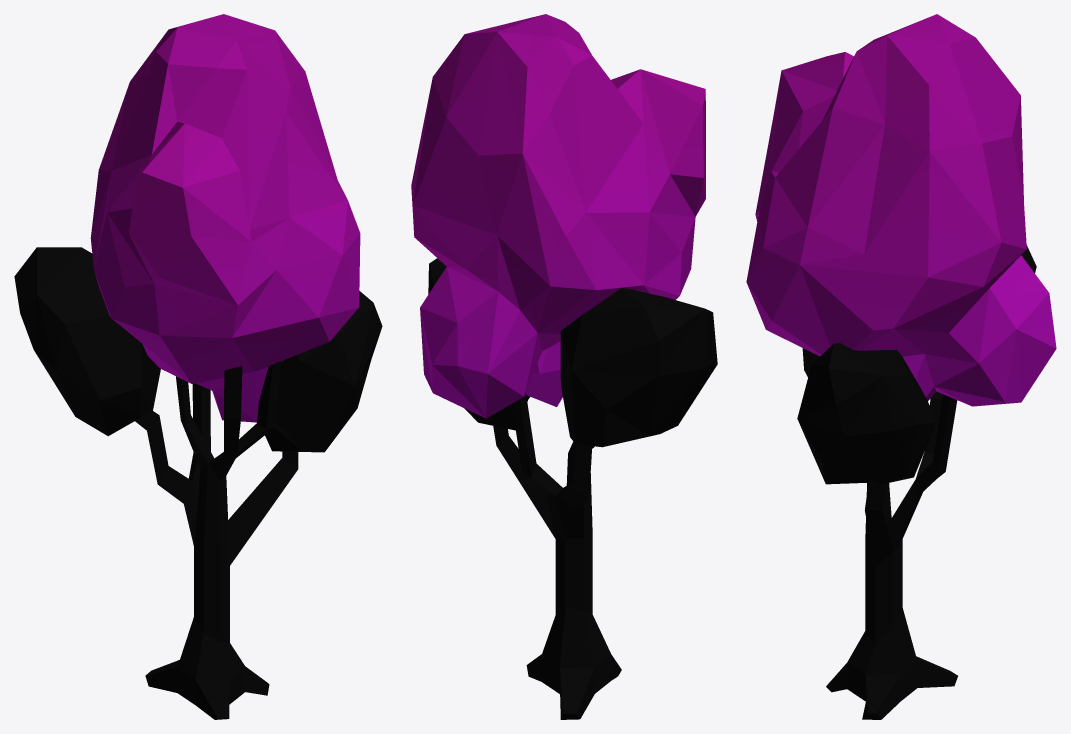
Rendered from SM_Env_Tree_03.glb.
The picture shows the model from 3 angles, left to right: view 1: azimuth 30°, elevation 25°; view 2: azimuth 150°, elevation 25°; view 3: azimuth 270°, elevation 25°; orthographic projection. The views are drawn at different scales.
Parts seen in each view (by area): view 1: SM_Env_Tree_03; view 2: SM_Env_Tree_03; view 3: SM_Env_Tree_03.
Boxes of the visible parts, bbox=[...] form: SM_Env_Tree_03: bbox=[14, 14, 382, 719]; SM_Env_Tree_03: bbox=[411, 14, 717, 719]; SM_Env_Tree_03: bbox=[746, 14, 1056, 719].
Bounding box in the file's own units: 472 × 998 × 407.
